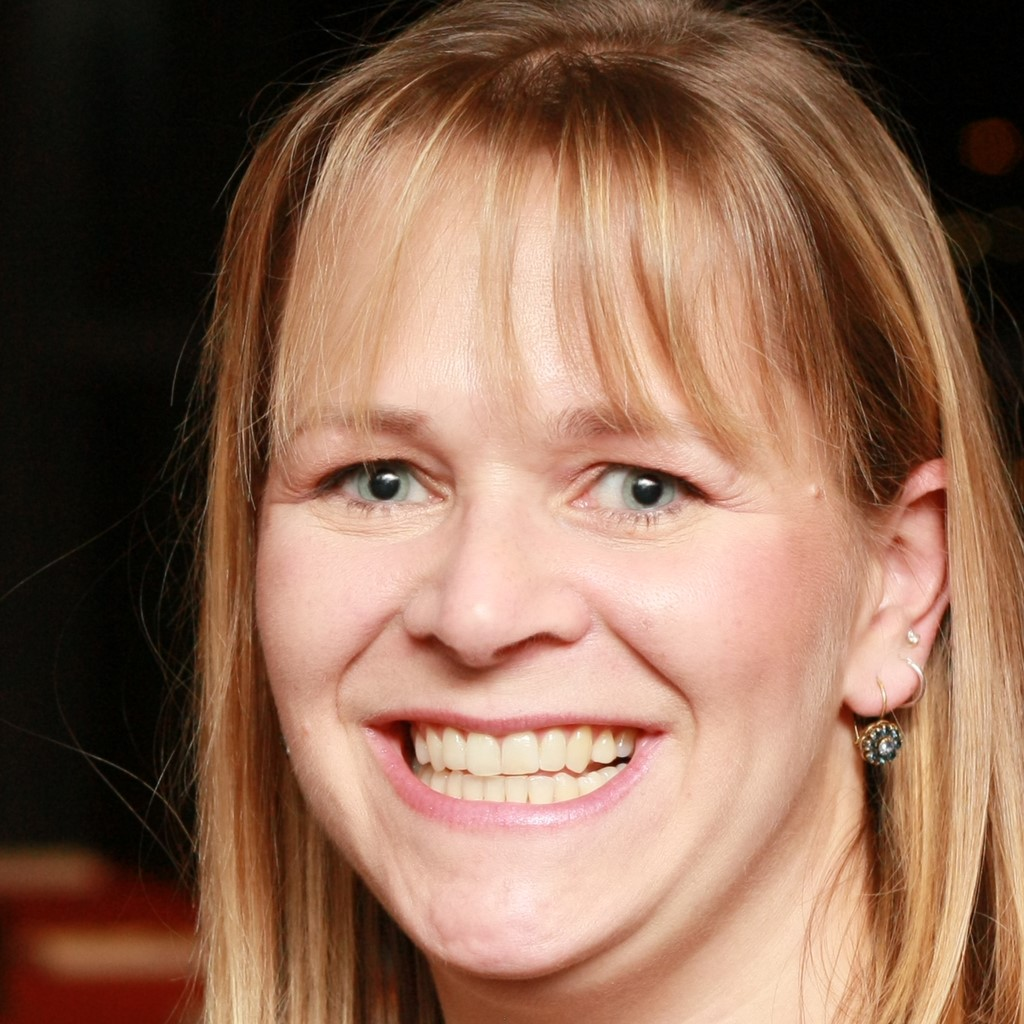sin_mascara: (259, 122, 914, 978)
